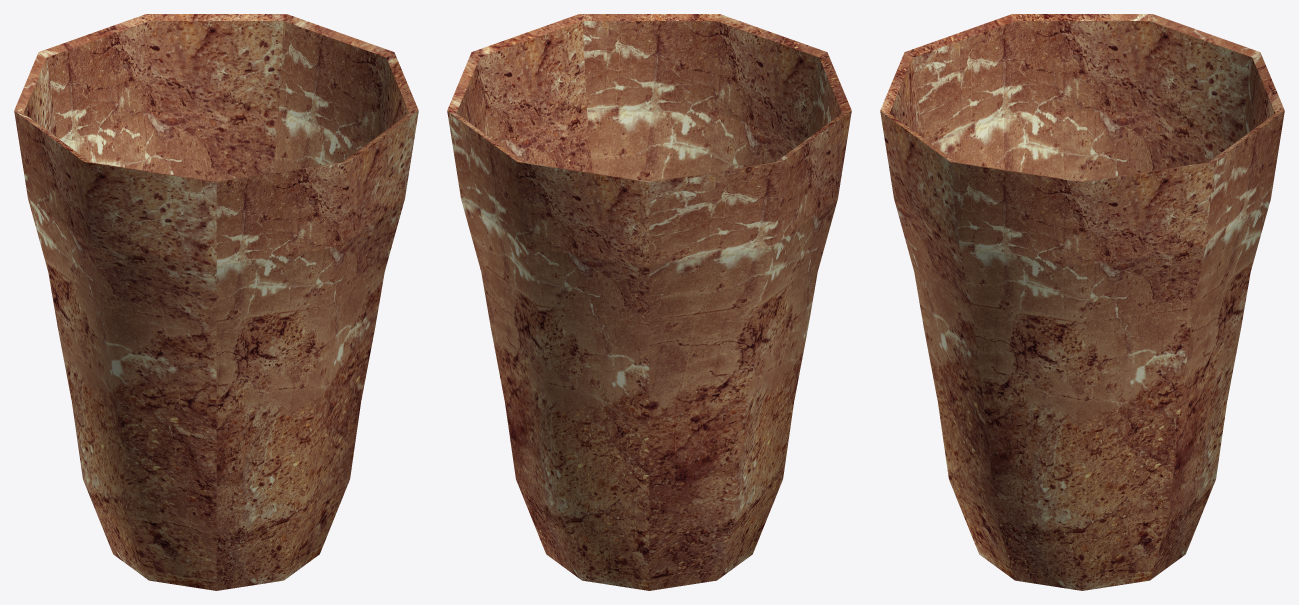
Rendered from glass.FBX.
3 renders of one model, left to right at view 1: azimuth 30°, elevation 25°; view 2: azimuth 150°, elevation 25°; view 3: azimuth 270°, elevation 25°, orthographic.
Visible parts, largest first — view 1: glass; view 2: glass; view 3: glass.
Part boxes in pixels (<box>): glass: <box>14,14,418,590</box>; glass: <box>447,14,851,590</box>; glass: <box>880,14,1284,590</box>.
Bounding box in the file's own units: 12.04 × 15.04 × 12.23.
1 material, 1 textured.
